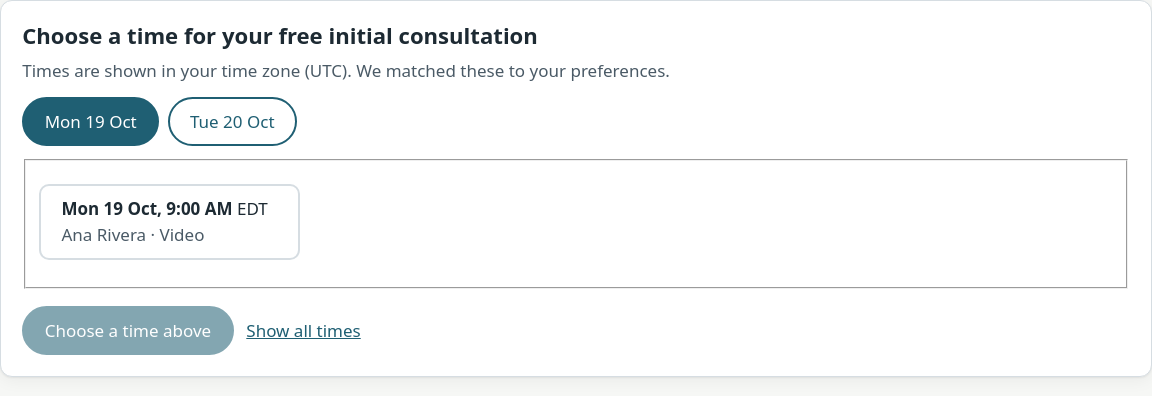
SchedulingStep › shows one day at a time with a day picker
Check: the button "Mon 19 Oct, 9:00 AM" is shown, box [39,184,300,260]
Check: the button "Tue 20 Oct, 10:00 AM" is not shown
Click the button "Tue 20 Oct" at (232, 122), box [168,98,297,146]
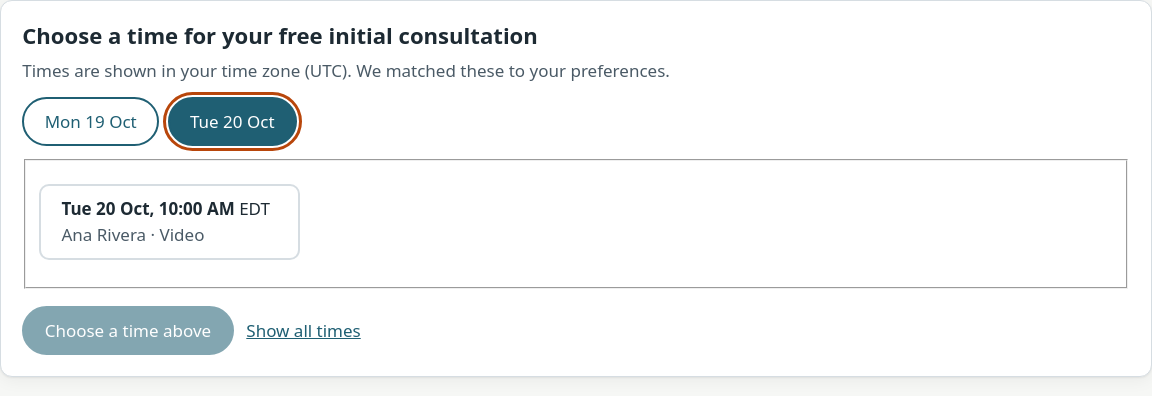
Check: the button "Tue 20 Oct, 10:00 AM" is shown, box [39,184,300,260]
